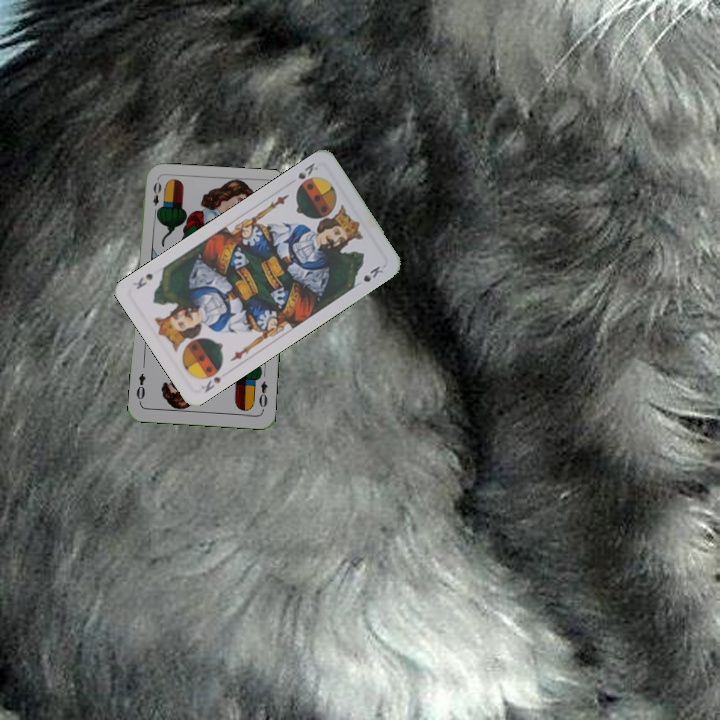EO: (149, 178, 164, 218), (255, 377, 270, 413)
SK: (291, 159, 321, 191), (197, 363, 225, 395)
